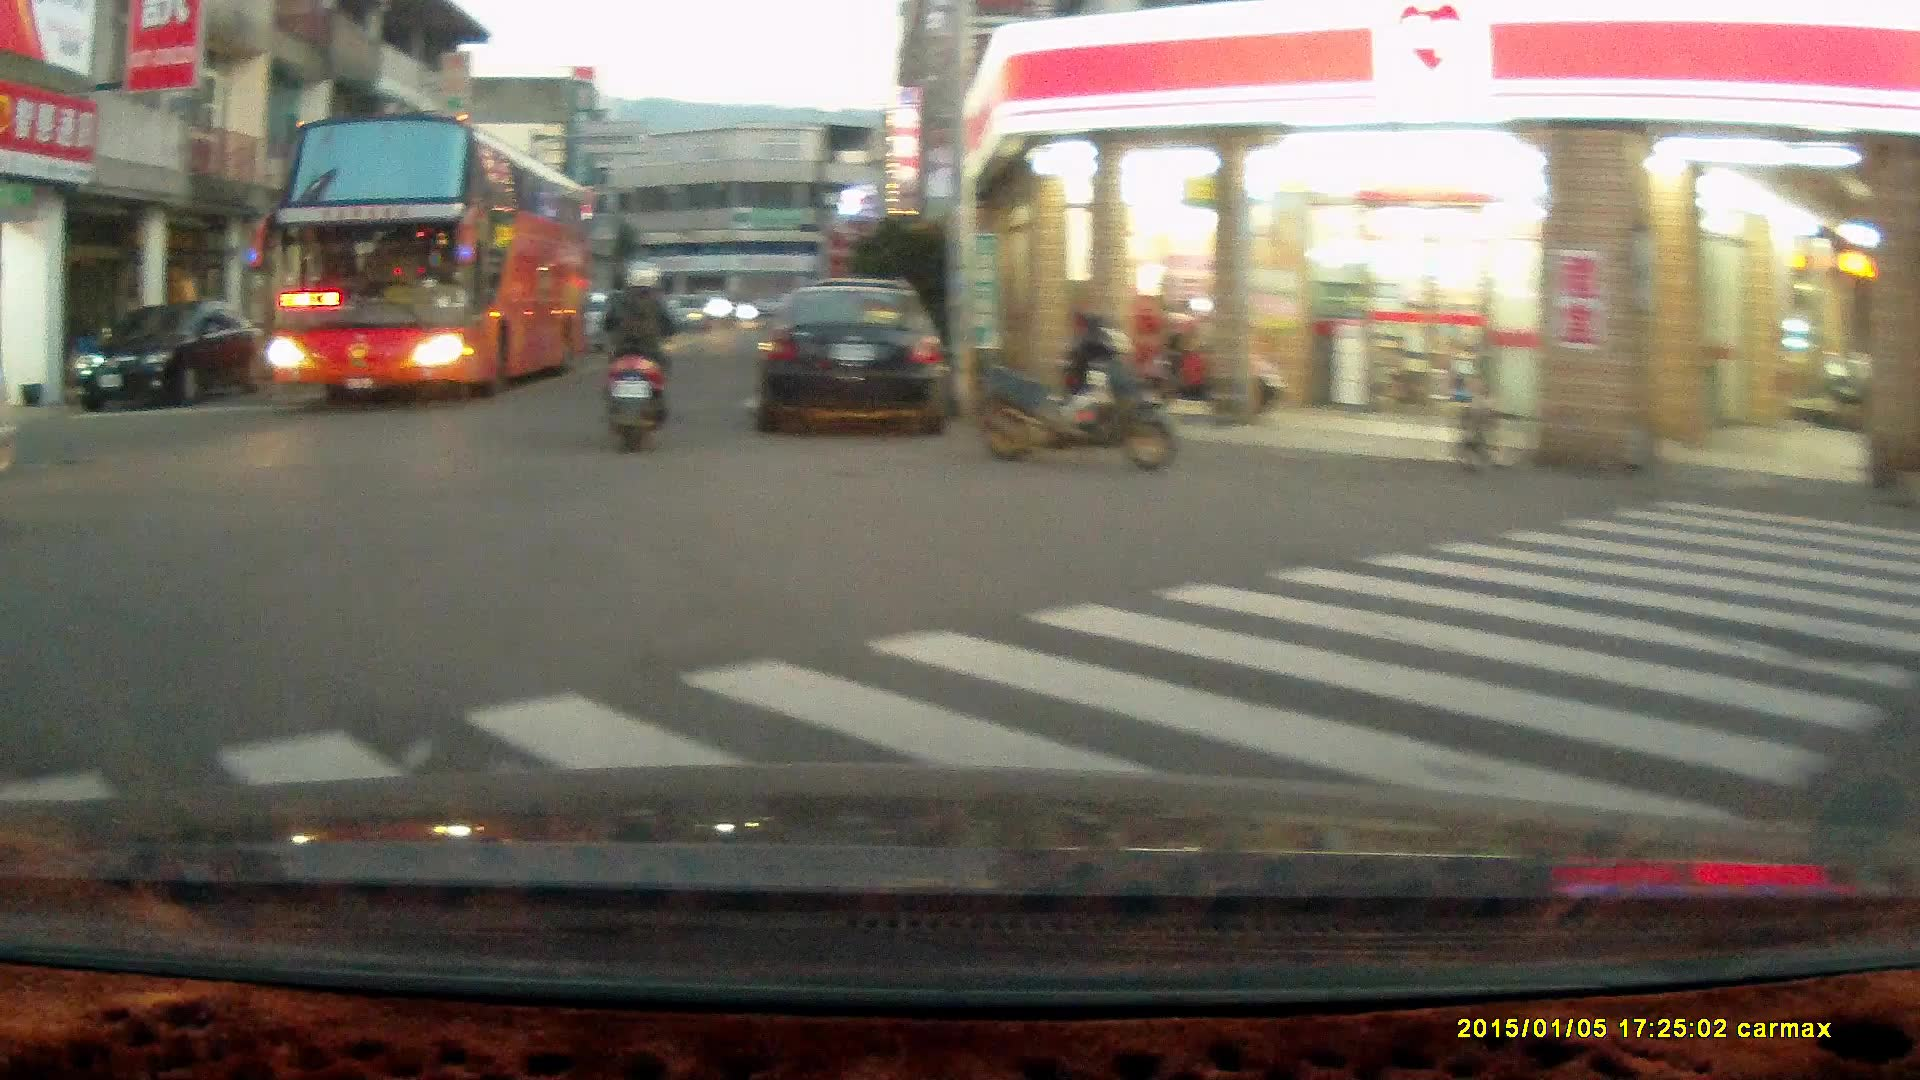rider: (587, 262, 675, 459)
vehicle: (263, 115, 596, 407), (752, 275, 953, 431), (71, 301, 271, 412)
